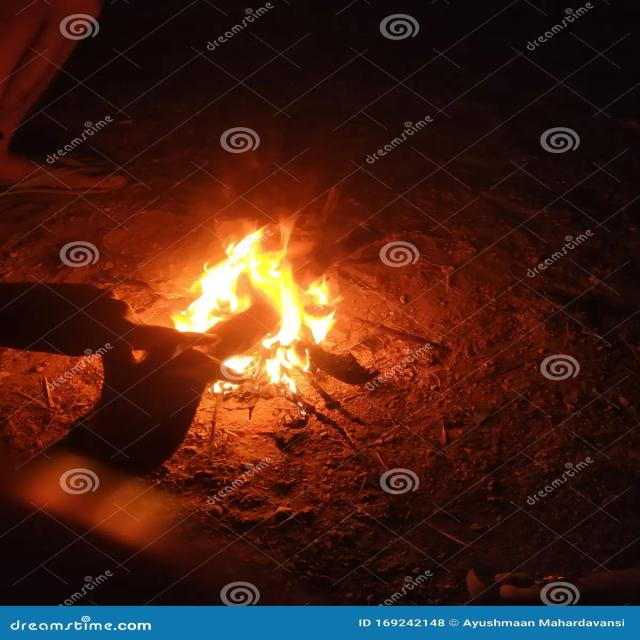fire: (171, 223, 343, 395)
